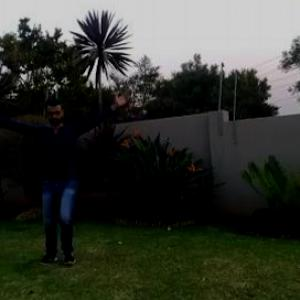takeoff: (1, 94, 136, 264)
